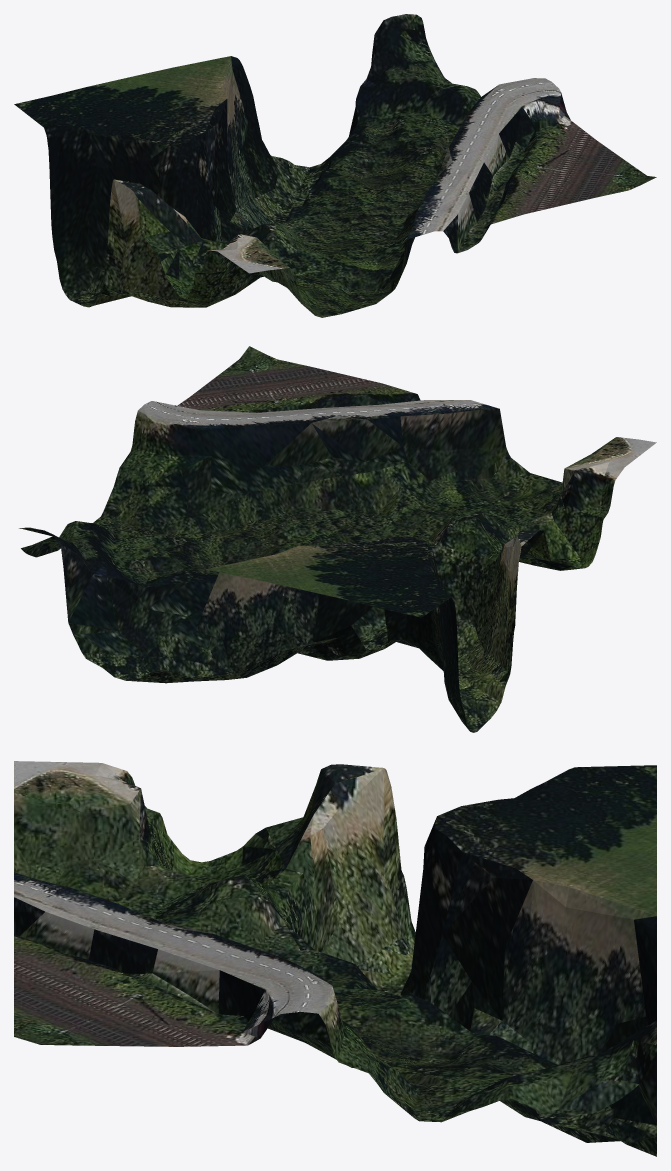
The model's file is map_15_8183_13789.dae.
The picture shows the model from 3 angles, top to bottom: view 1: azimuth 30°, elevation 25°; view 2: azimuth 150°, elevation 25°; view 3: azimuth 270°, elevation 25°; orthographic projection. The views are drawn at different scales.
Visible parts, largest first — view 1: Ter0; view 2: Ter0; view 3: Ter0.
Part boxes in pixels (box(x1,y1,x2,y2)): Ter0: box(14, 14, 656, 317); Ter0: box(19, 346, 656, 732); Ter0: box(14, 761, 656, 1156).
Bounding box in the file's own units: 63.87 × 63.88 × 25.95.
4 materials, 4 textured.
